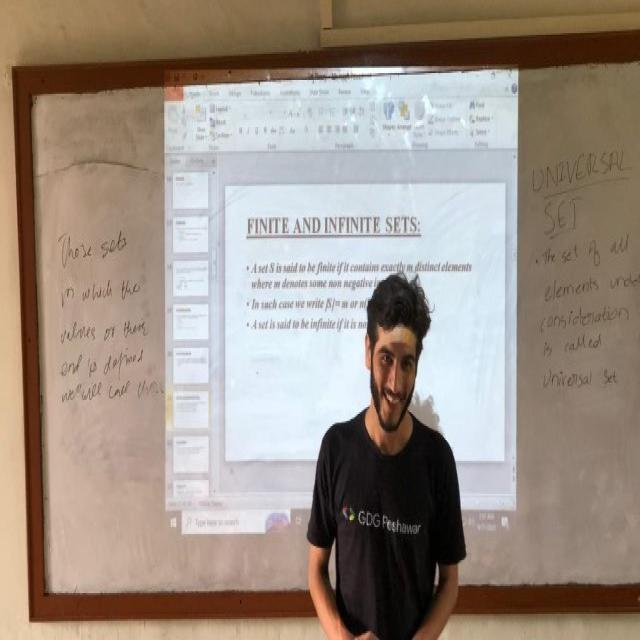Instructor: (323, 252, 447, 640)
Slide: (163, 64, 519, 548)
White-board: (25, 40, 640, 615)
